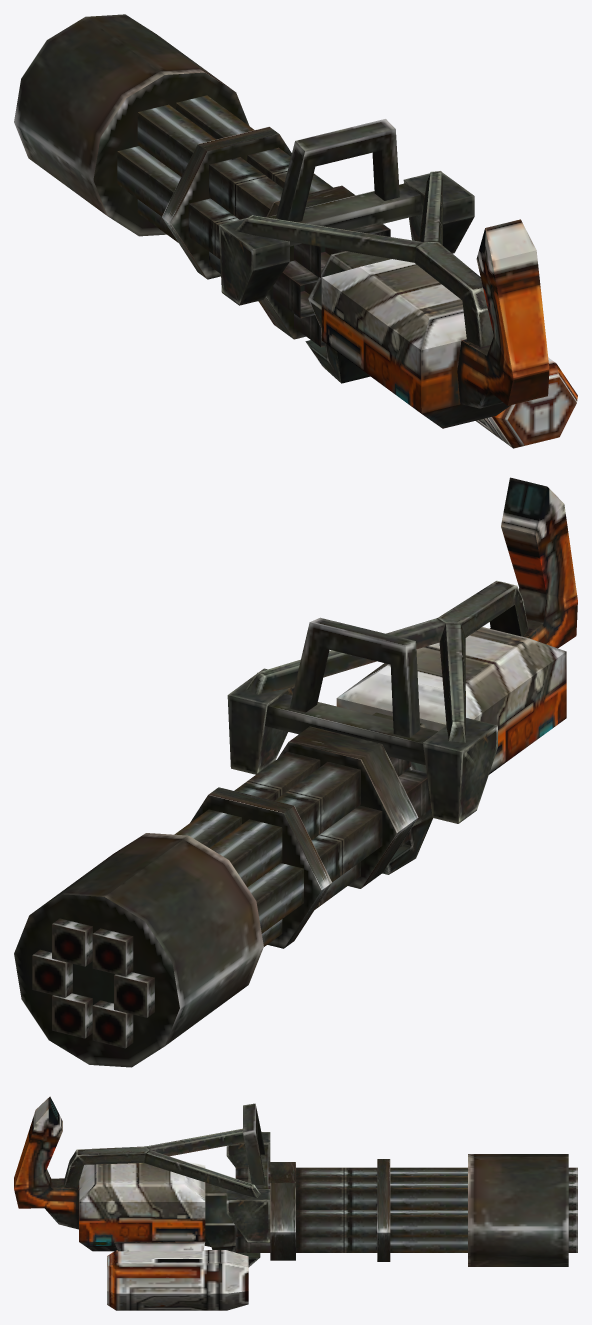
File: gun24.obj
3 views of the same model, one above another, from view 1: azimuth 30°, elevation 25°; view 2: azimuth 150°, elevation 25°; view 3: azimuth 270°, elevation 25° (orthographic). The views are drawn at different scales.
Parts seen in each view (by area): view 1: gun_machinegun; view 2: gun_machinegun; view 3: gun_machinegun.
Part boxes in pixels (<box>): gun_machinegun: <box>14,14,577,448</box>; gun_machinegun: <box>14,477,577,1067</box>; gun_machinegun: <box>14,1096,577,1310</box>.
Size of the model in its own units: 0.5515 by 0.6176 by 1.79.
Materials: 1 (1 with a texture image).
